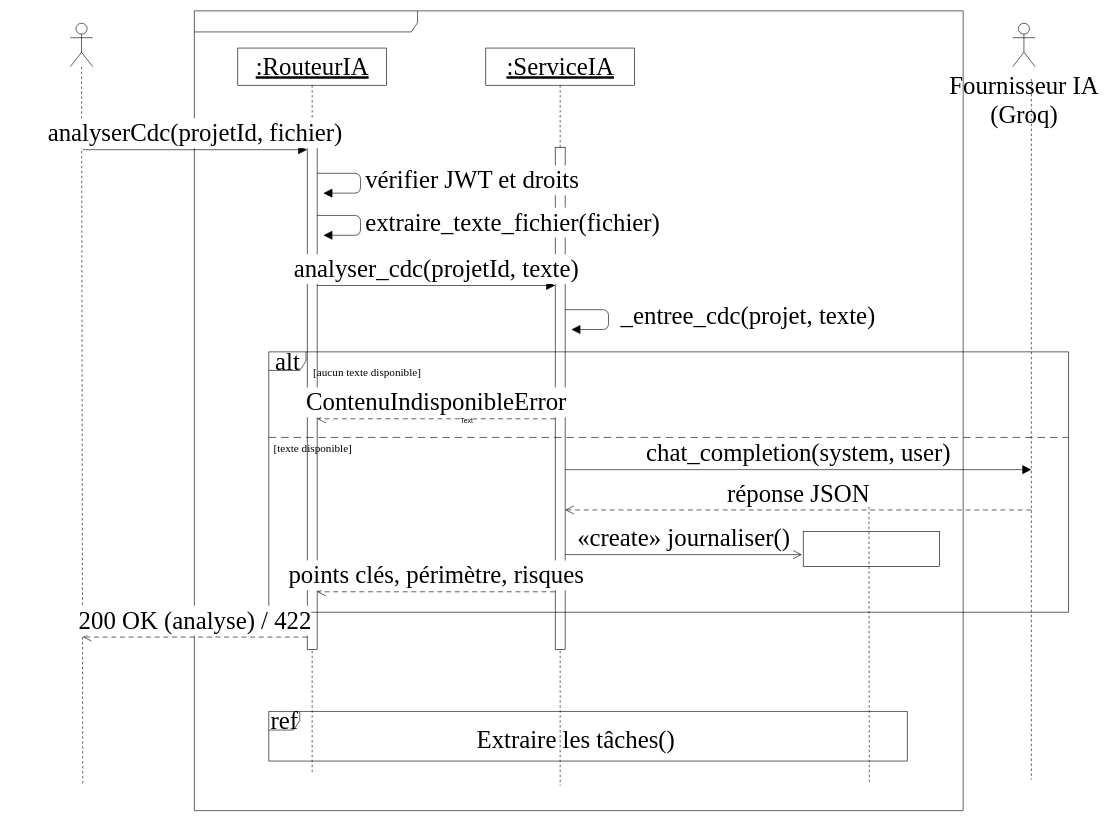
Image size: 1109x822. Some labels were removed from this diagram. Each missing label, with the box of its shape:
:AnalyseIA: (803, 531, 940, 566)
Chef de projet: (70, 23, 93, 67)
